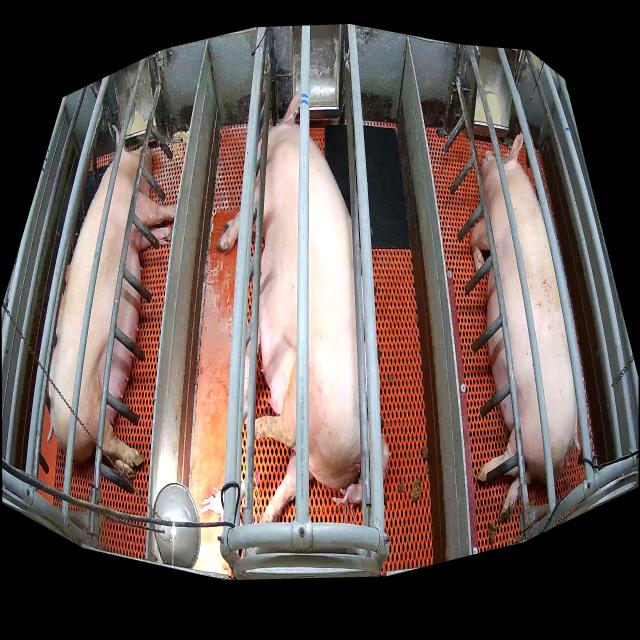pig: (218, 88, 362, 524), (48, 125, 176, 479), (471, 130, 580, 519), (333, 434, 390, 504), (243, 331, 261, 420), (200, 486, 224, 515)
